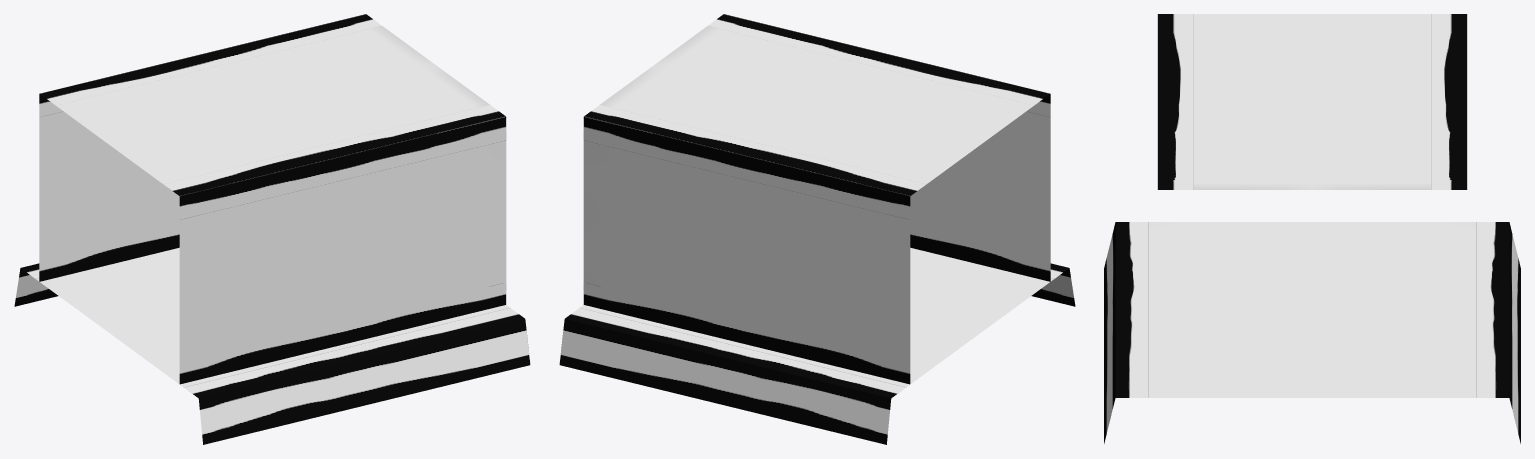
Rendered from 2 Sides Normal Building.fbx.
3 views of the same model, side by side, from view 1: azimuth 30°, elevation 25°; view 2: azimuth 150°, elevation 25°; view 3: azimuth 270°, elevation 25° (orthographic). The views are drawn at different scales.
Visible parts, largest first — view 1: 2 Sides Normal Ground, 2 Sides Normal Ground.001; view 2: 2 Sides Normal Ground, 2 Sides Normal Ground.001; view 3: 2 Sides Normal Ground.001, 2 Sides Normal Ground.
Boxes of the visible parts, x1,y1,x2,y2 form: 2 Sides Normal Ground: (39, 14, 506, 384); 2 Sides Normal Ground.001: (14, 247, 530, 444); 2 Sides Normal Ground: (583, 14, 1050, 384); 2 Sides Normal Ground.001: (559, 247, 1075, 444); 2 Sides Normal Ground.001: (1104, 222, 1520, 443); 2 Sides Normal Ground: (1157, 14, 1467, 189).
Size of the model in its own units: 200 by 135 by 200.
